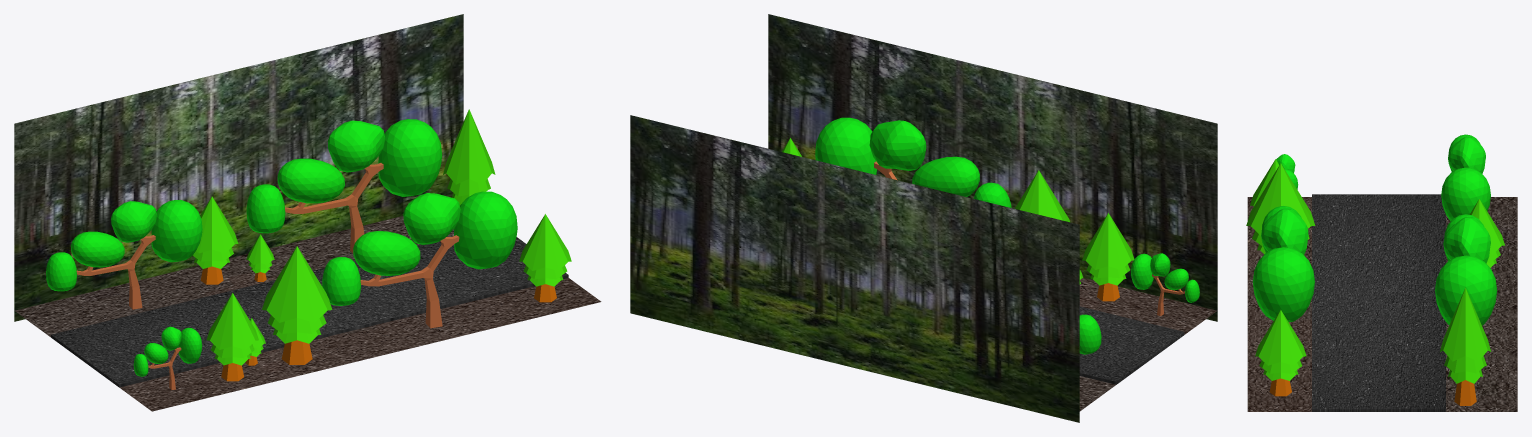
The model's file is env.game.fbx.
3 renders of one model, left to right at view 1: azimuth 30°, elevation 25°; view 2: azimuth 150°, elevation 25°; view 3: azimuth 270°, elevation 25°, orthographic. The views are drawn at different scales.
Visible parts, largest first — view 1: Plane.001, Plane, Plane.002, Icosphere.001, Icosphere.003, Icosphere.002, Cone.005, Cone.004, Cone.003, Cone.007, Cone.001, Icosphere.004 (+1 smaller); view 2: Plane.001, Icosphere.001, Plane.002, Plane, Cone.007, Icosphere.004, Cone.005, Icosphere.002; view 3: Plane.002, Plane, Icosphere.001, Icosphere.003, Cone.004, Icosphere.002, Cone.003, Cone.005, Cone.001, Cone.007, Icosphere.004.
Part boxes in pixels (x1,y1,x2,y2): Plane.001: [14, 14, 463, 321]; Plane: [14, 216, 601, 411]; Plane.002: [51, 237, 568, 387]; Icosphere.001: [322, 191, 517, 328]; Icosphere.003: [246, 119, 442, 253]; Icosphere.002: [46, 200, 202, 309]; Cone.005: [262, 246, 332, 364]; Cone.004: [443, 109, 495, 205]; Cone.003: [519, 214, 571, 302]; Cone.007: [206, 293, 258, 381]; Cone.001: [193, 196, 238, 284]; Icosphere.004: [133, 326, 202, 389]; Plane.001: [630, 14, 1217, 422]; Icosphere.001: [815, 117, 1011, 207]; Plane.002: [1079, 306, 1184, 384]; Plane: [1079, 278, 1217, 411]; Cone.007: [1082, 213, 1134, 301]; Icosphere.004: [1131, 253, 1199, 316]; Cone.005: [1015, 170, 1069, 222]; Icosphere.002: [1079, 314, 1101, 354]; Plane.002: [1312, 194, 1445, 411]; Plane: [1247, 197, 1517, 411]; Icosphere.001: [1252, 206, 1314, 323]; Icosphere.003: [1435, 214, 1497, 325]; Cone.004: [1440, 287, 1491, 405]; Icosphere.002: [1441, 134, 1490, 221]; Cone.003: [1255, 310, 1306, 396]; Cone.005: [1246, 163, 1315, 254]; Cone.001: [1469, 199, 1504, 267]; Cone.007: [1250, 159, 1279, 205]; Icosphere.004: [1276, 154, 1298, 189].
Bounding box in the file's own units: 1791 × 752 × 954.
